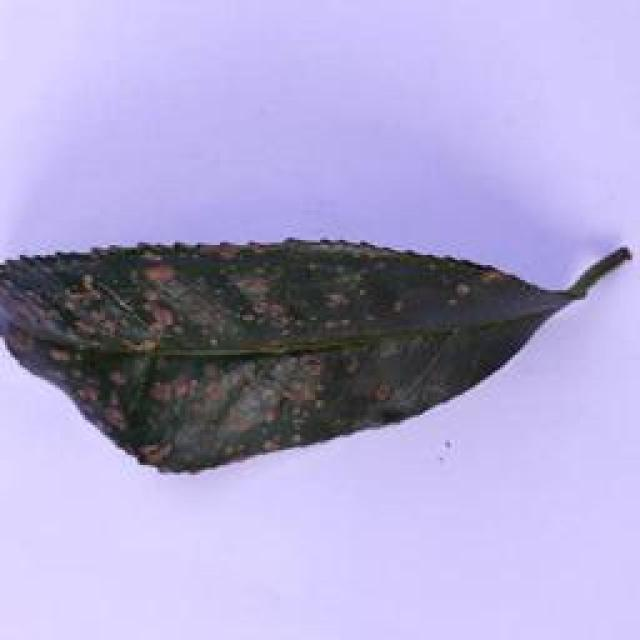Algal Leaf Spot: (1, 216, 593, 482)
